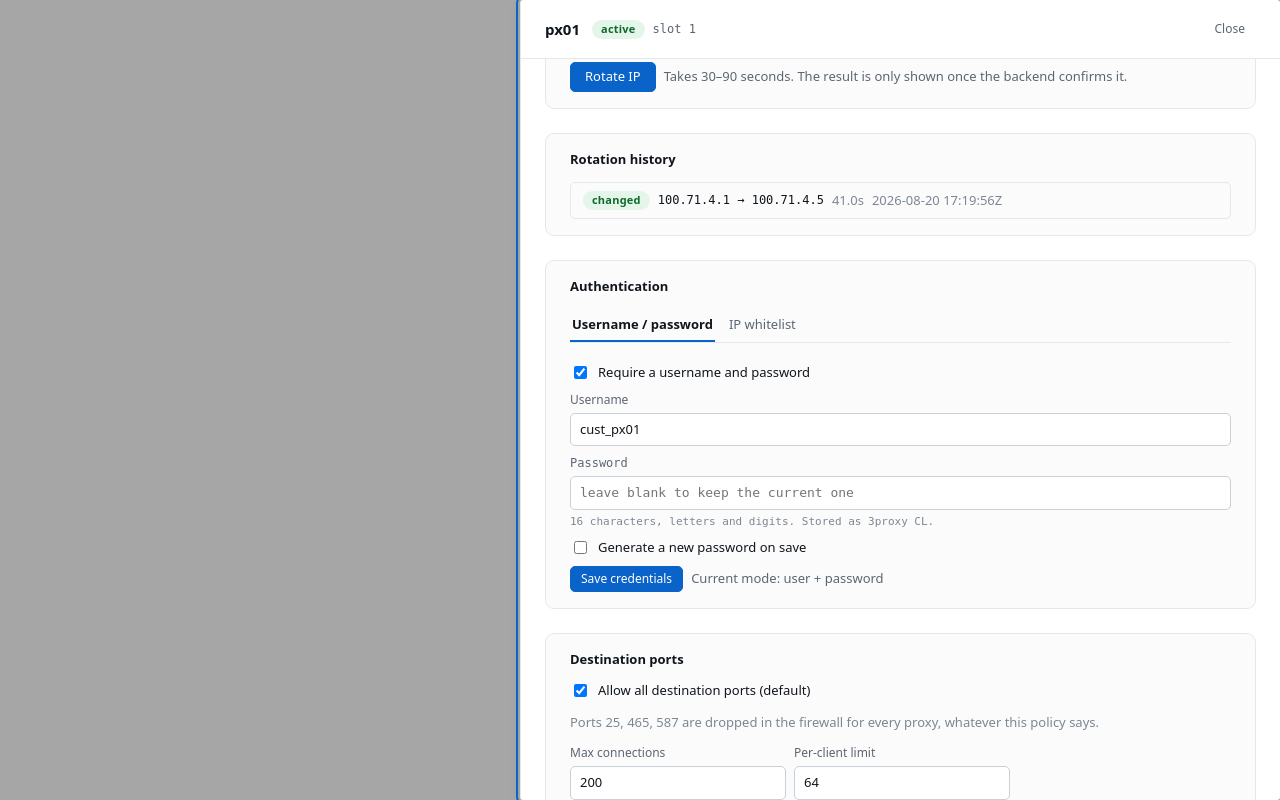
Test: auth editor — both modes are editable › saves a username and password change through the frozen contract shape
The width and height of the screenshot is (1280, 800).
(page scrolled)
Expected: the tab "Username / password" is shown, 570,308 -> 715,342
Replace the text in the field labelled "Username" with "cust_renamed". click: (900, 429)
box: 570,412 -> 1231,446
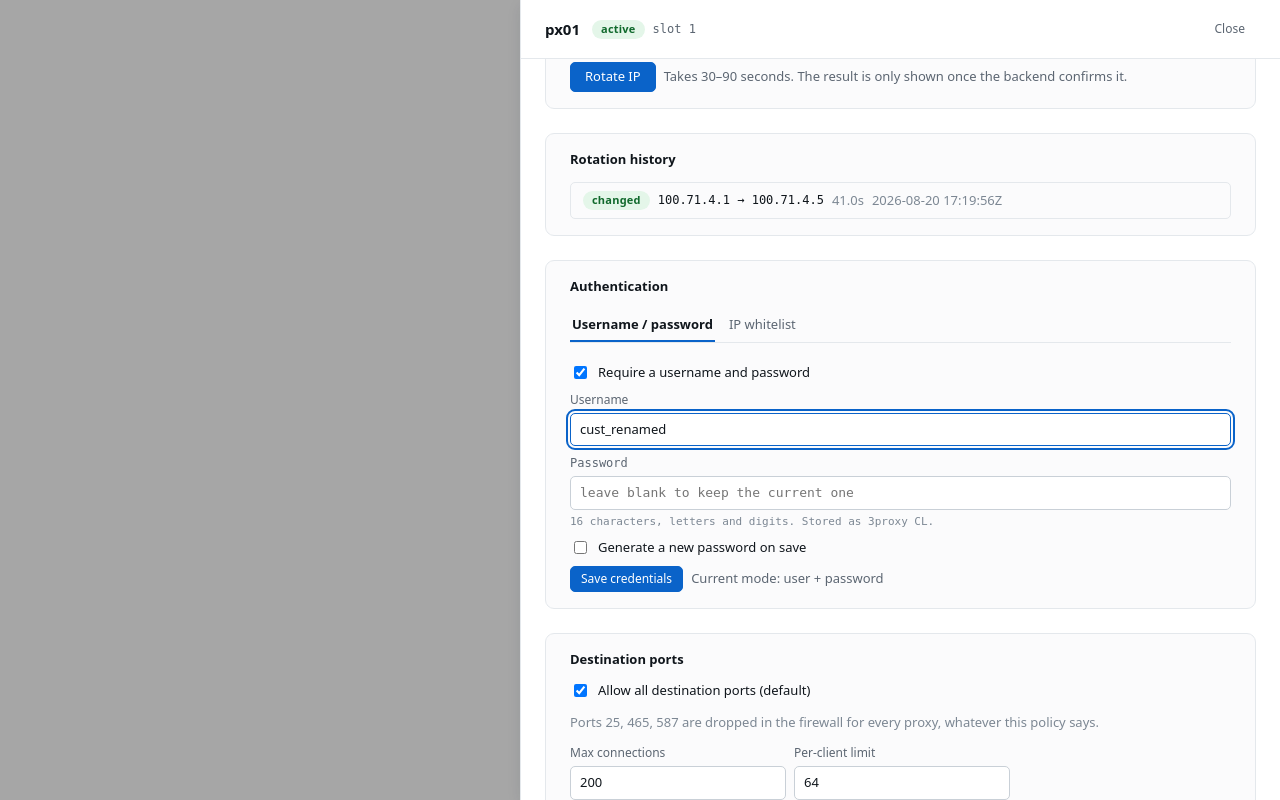
Click the checkbox labelled "Generate a new password on save". click: click(580, 548)
box: 574,541 -> 587,554
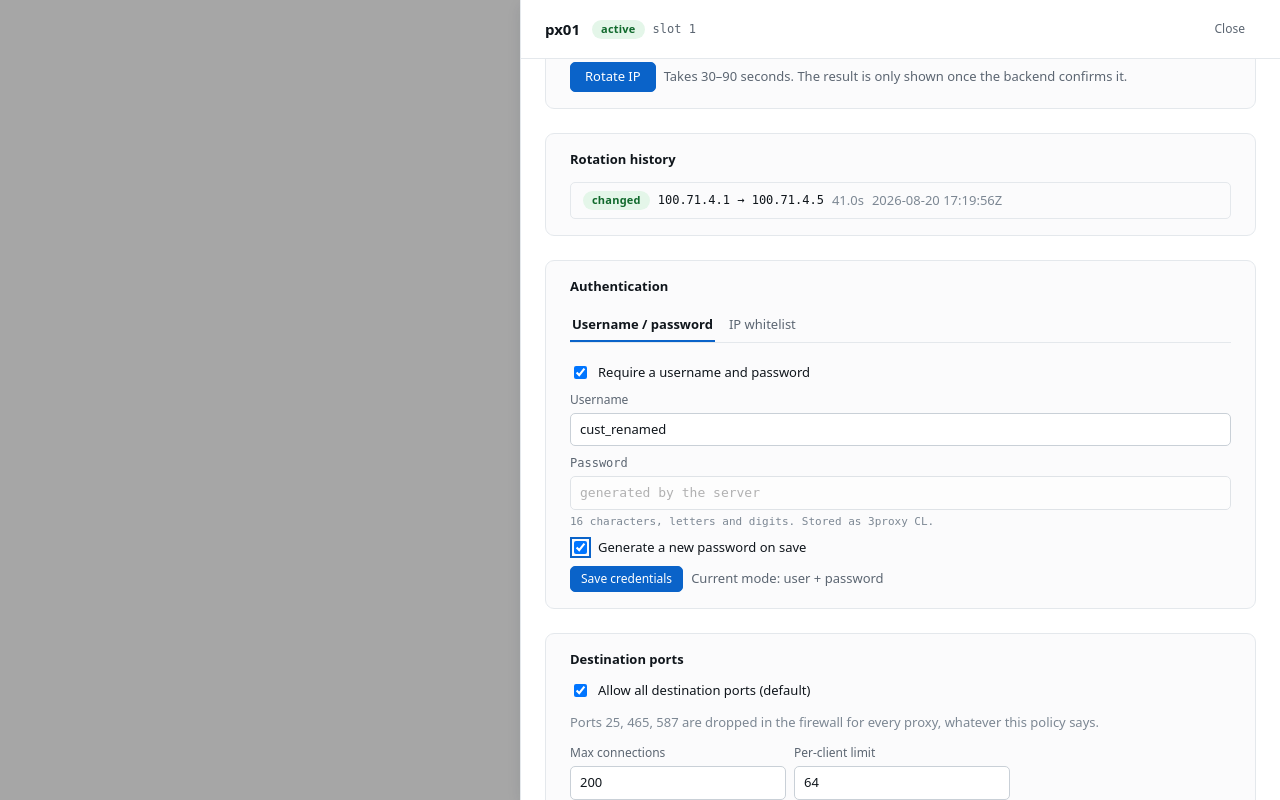
Click the button "Save credentials". click: click(627, 578)
box: 570,566 -> 683,592
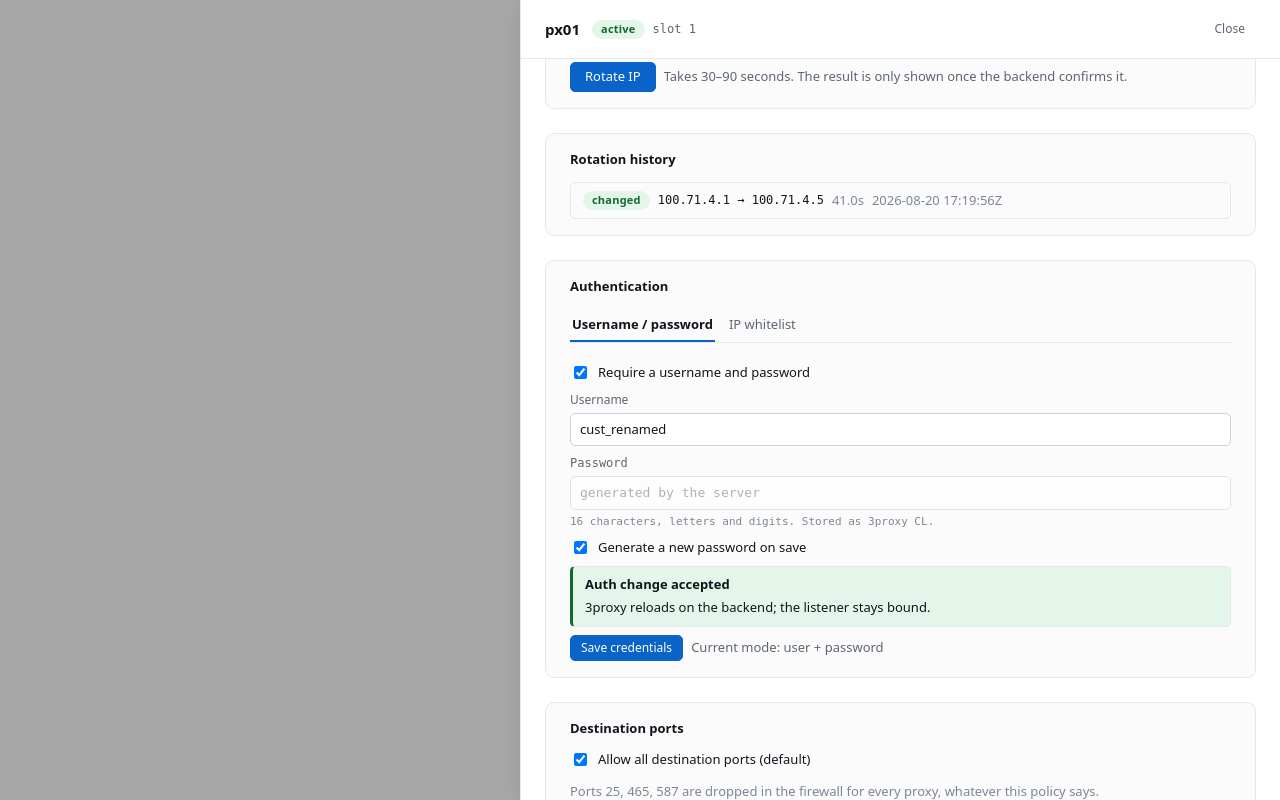
Result: the text "Auth change accepted" is shown at 585,574 -> 730,592
